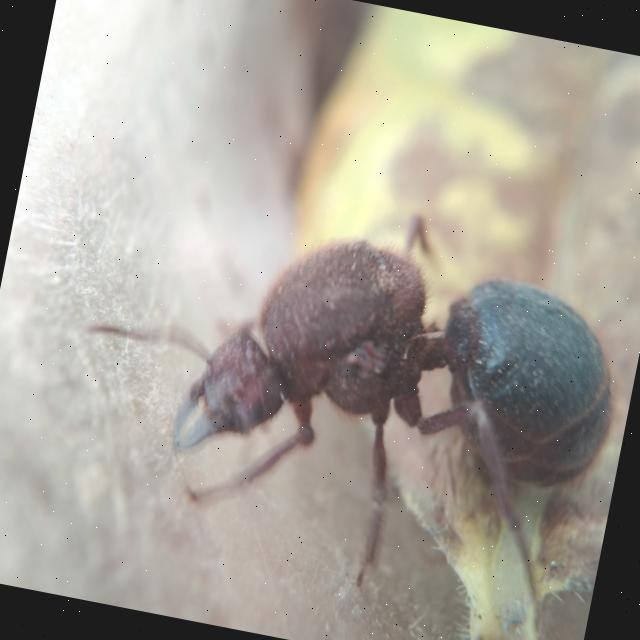Alive-Female-Dealate: (40, 152, 640, 640)
